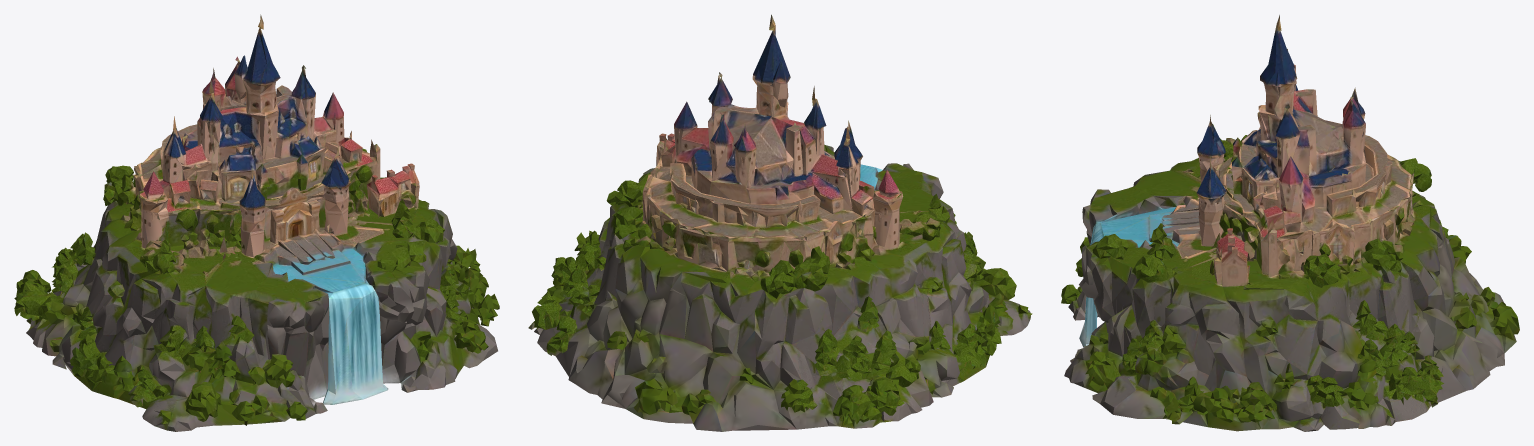
File: castle.glb
The picture shows the model from 3 angles, left to right: view 1: azimuth 30°, elevation 25°; view 2: azimuth 150°, elevation 25°; view 3: azimuth 270°, elevation 25°; orthographic projection. The views are drawn at different scales.
Bounding box in the file's own units: 33.74 × 25 × 32.15.
1 material, 1 textured.
